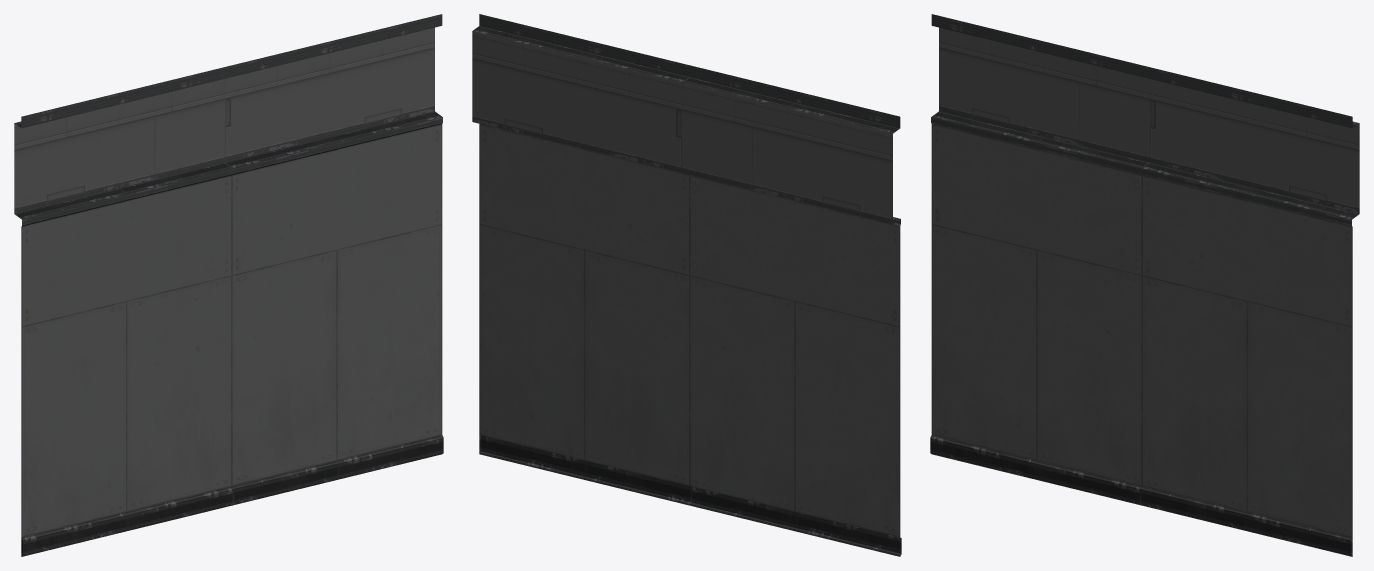
File: Subway_wall_3.fbx
The picture shows the model from 3 angles, left to right: view 1: azimuth 30°, elevation 25°; view 2: azimuth 150°, elevation 25°; view 3: azimuth 330°, elevation 25°; orthographic projection.
Visible parts, largest first — view 1: pPlane16; view 2: pPlane16; view 3: pPlane16.
Part boxes in pixels (box(x1,y1,x2,y2)): pPlane16: box(14, 14, 443, 556); pPlane16: box(472, 14, 901, 556); pPlane16: box(930, 14, 1359, 556).
Bounding box in the file's own units: 400 × 400 × 14.44.
